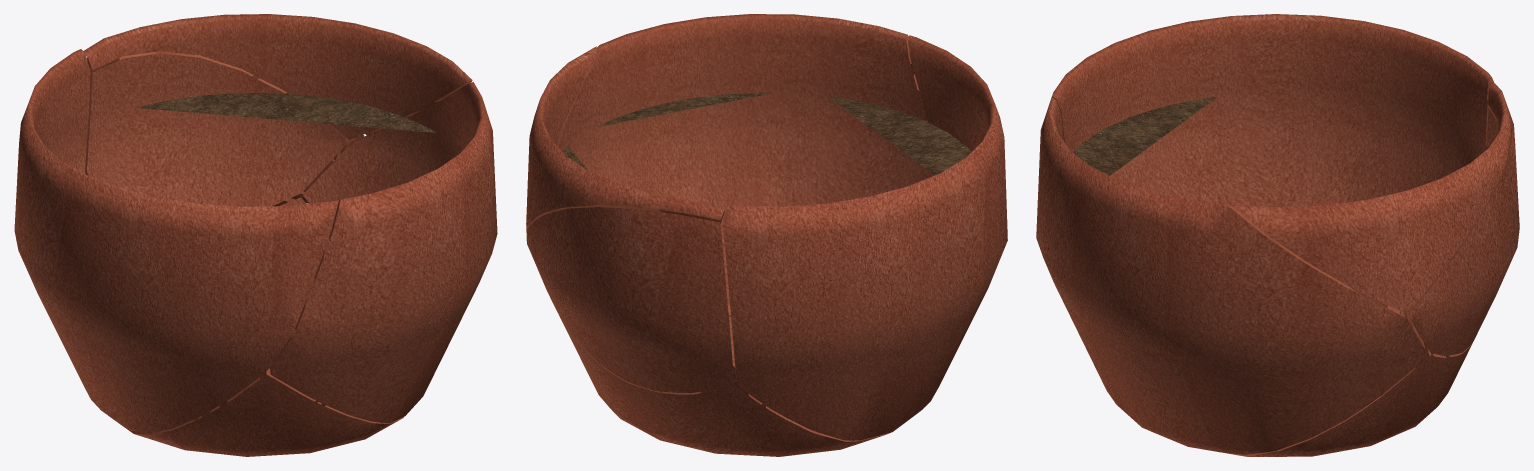
Rendered from fractured_pot.fbx.
The picture shows the model from 3 angles, left to right: view 1: azimuth 30°, elevation 25°; view 2: azimuth 150°, elevation 25°; view 3: azimuth 270°, elevation 25°; orthographic projection.
Visible parts, largest first — view 1: Pot_cell, Pot_cell.004, Pot_cell.003, Pot_cell.001, Pot_cell.002, Ground_cell.004; view 2: Pot_cell, Pot_cell.004, Pot_cell.003, Pot_cell.002, Pot_cell.001, Ground_cell.001, Ground_cell; view 3: Pot_cell.004, Pot_cell, Pot_cell.001, Pot_cell.003, Pot_cell.002, Ground_cell.001.
Part boxes in pixels (<box>): Pot_cell: <box>14,49,338,433</box>; Pot_cell.004: <box>269,82,497,423</box>; Pot_cell.003: <box>85,51,364,206</box>; Pot_cell.001: <box>83,14,472,139</box>; Pot_cell.002: <box>108,197,403,456</box>; Ground_cell.004: <box>137,93,436,132</box>; Pot_cell: <box>723,35,1007,440</box>; Pot_cell.004: <box>526,14,934,316</box>; Pot_cell.003: <box>526,207,734,393</box>; Pot_cell.002: <box>558,312,923,456</box>; Pot_cell.001: <box>526,46,724,229</box>; Ground_cell.001: <box>827,96,971,175</box>; Ground_cell: <box>597,92,774,126</box>; Pot_cell.004: <box>1036,97,1428,454</box>; Pot_cell: <box>1050,14,1496,207</box>; Pot_cell.001: <box>1232,83,1511,312</box>; Pot_cell.003: <box>1409,106,1519,355</box>; Pot_cell.002: <box>1101,310,1472,456</box>; Ground_cell.001: <box>1073,97,1216,175</box>.
Size of the model in its own units: 30.13 by 19.41 by 30.13.
